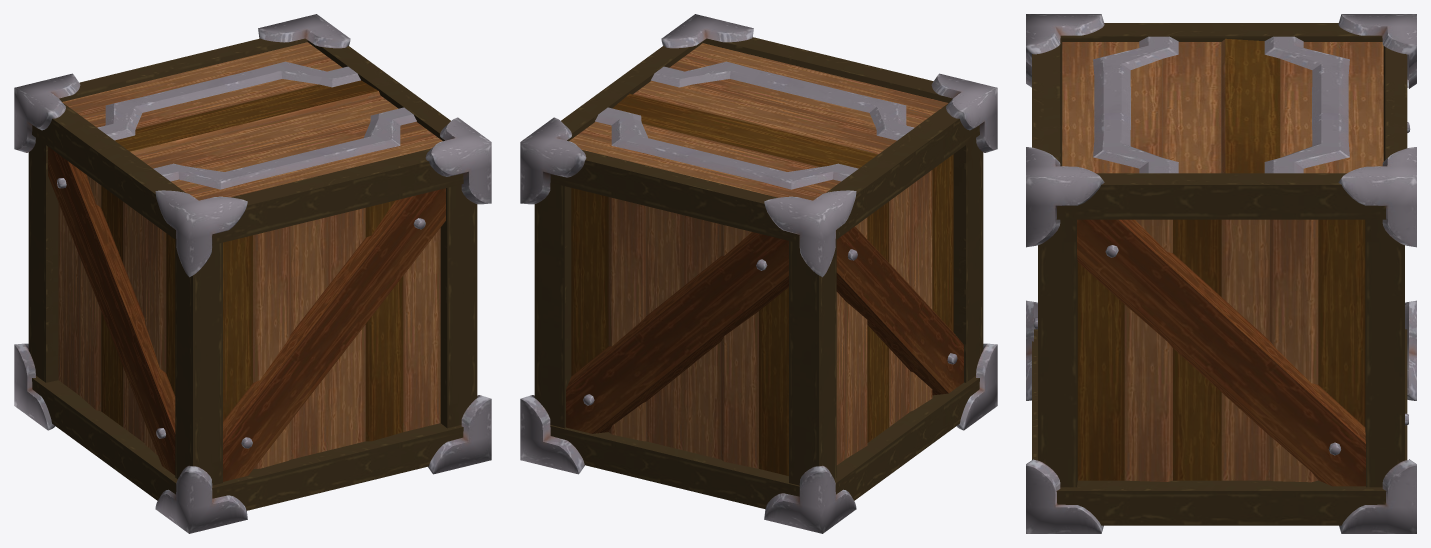
The model's file is crate_metal.glb.
The picture shows the model from 3 angles, left to right: view 1: azimuth 30°, elevation 25°; view 2: azimuth 150°, elevation 25°; view 3: azimuth 270°, elevation 25°; orthographic projection. The views are drawn at different scales.
Visible parts, largest first — view 1: Crate_Metal; view 2: Crate_Metal; view 3: Crate_Metal.
Part boxes in pixels (<box>): Crate_Metal: <box>14,14,491,533</box>; Crate_Metal: <box>520,14,997,533</box>; Crate_Metal: <box>1026,14,1416,533</box>.
Bounding box in the file's own units: 0.8639 × 0.8679 × 0.8659.
2 materials, 2 textured.
